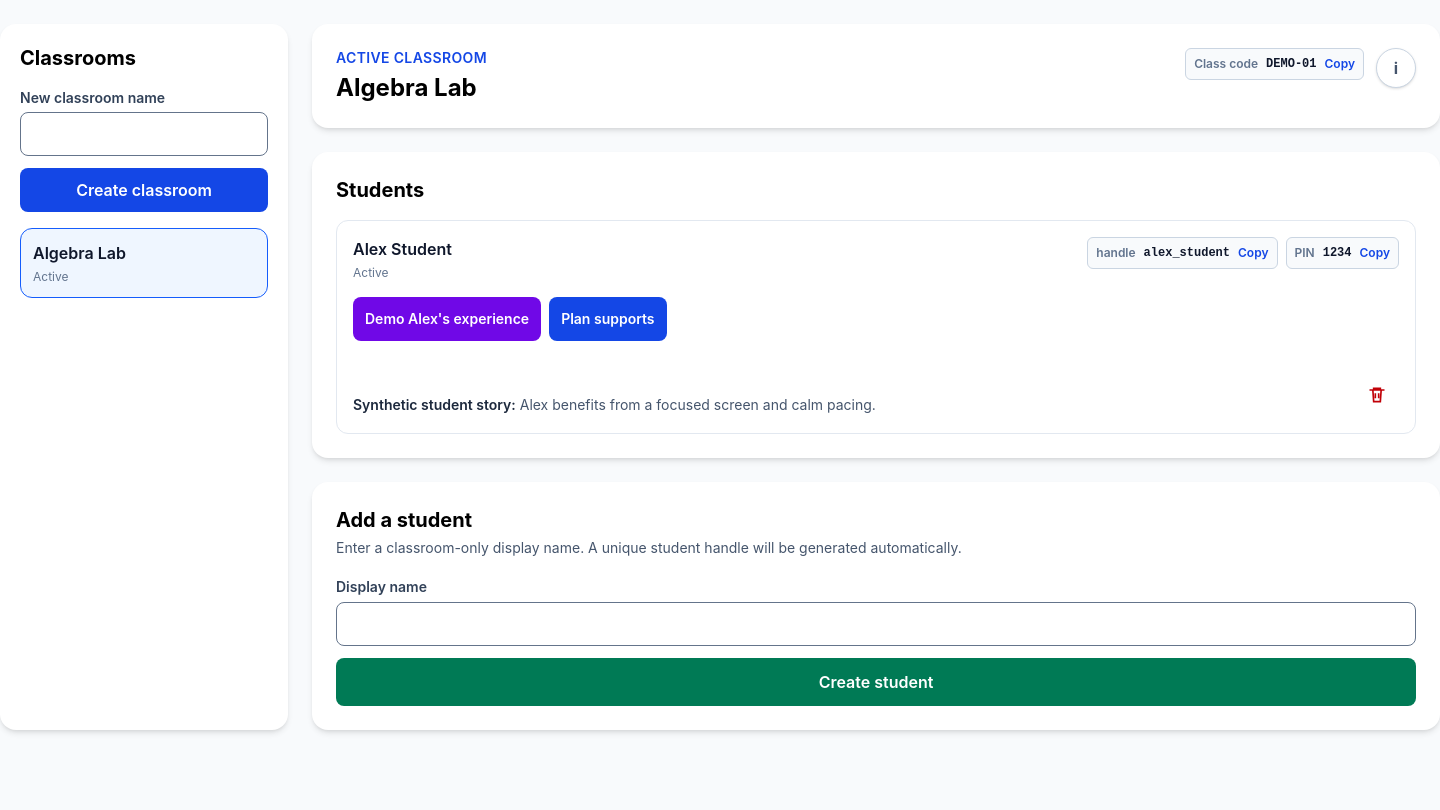
Test: ClassroomWorkspace › shows persistent copy controls instead of a popup or reset button in the demo
The image size is (1440, 810).
expect the button named "Copy student pin 1234" is shown: met, box [1286,237,1399,269]
expect the button "Copy class code DEMO-01" is shown: met, box [1185,48,1364,80]
Click the button named "Copy student handle alex_student" at (1182, 253), box [1087,237,1278,269]
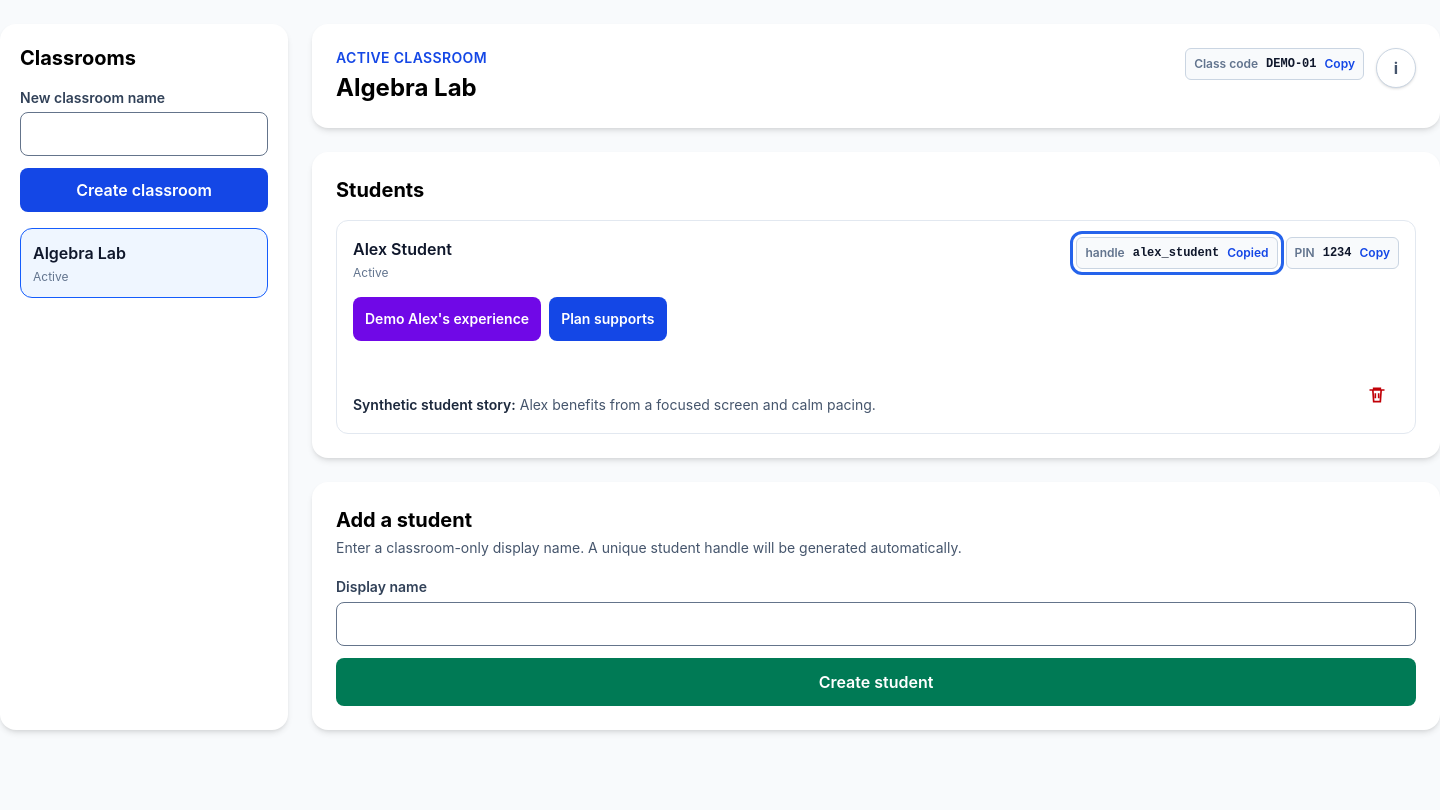
expect the button named "Copy student handle alex_student" shows "Copied": met, box [1076,237,1278,269]
Type "Jamie Learner" into the field labelled "Display name" at (876, 624), box [336,602,1416,646]
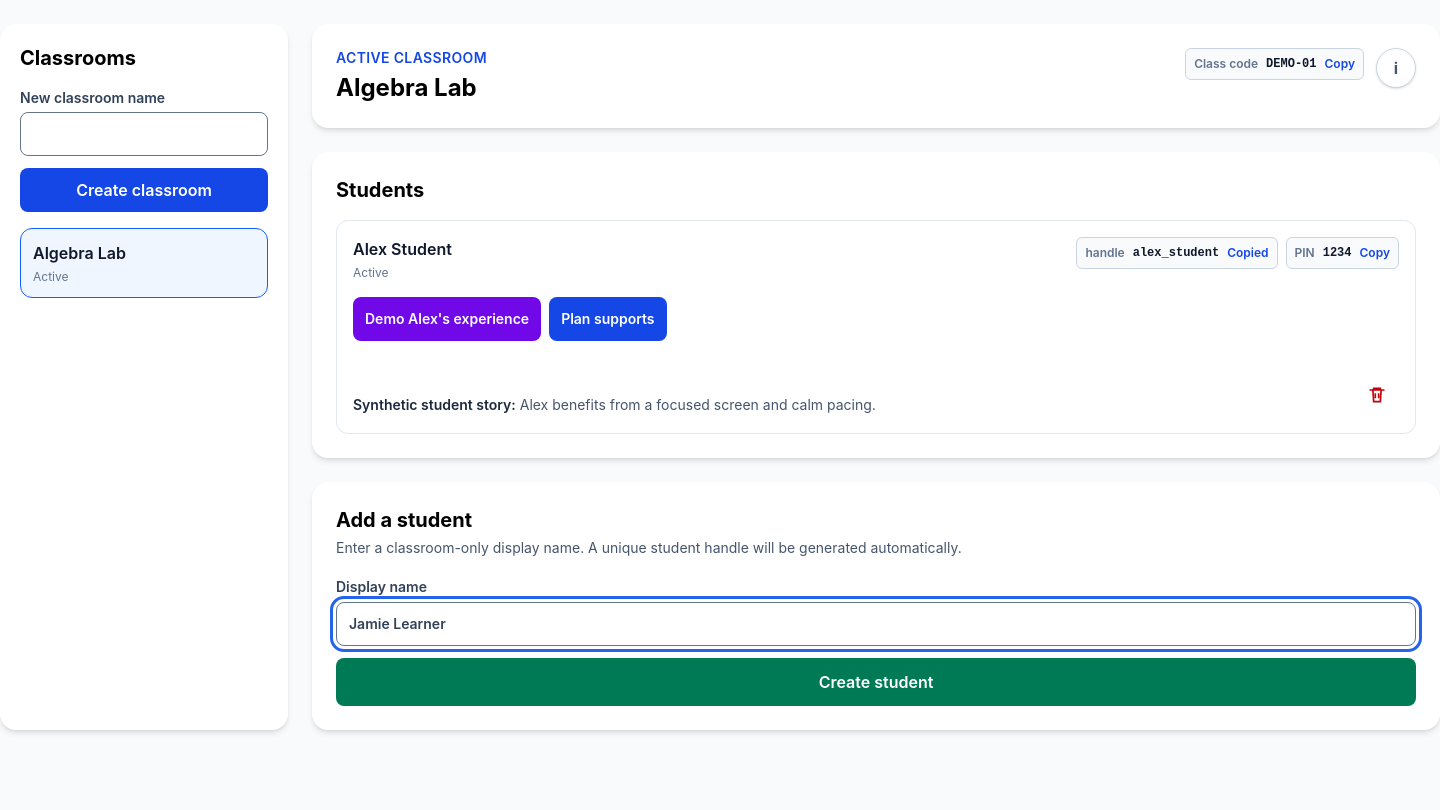
Click the button "Create student" at (876, 682), box [336,658,1416,706]
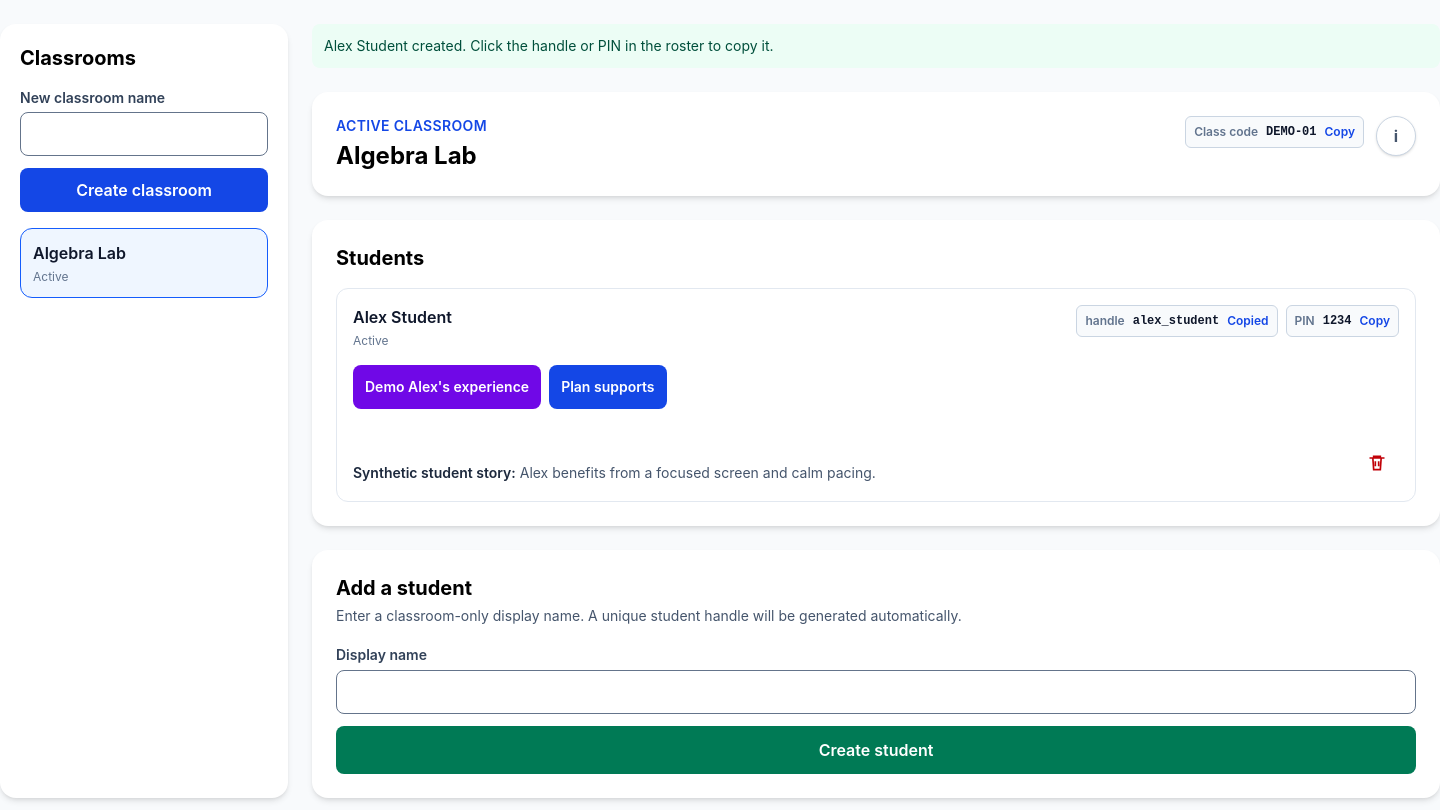
expect the message shows "Click the handle or PIN in the roster to copy it": met, box [324,37,774,54]
